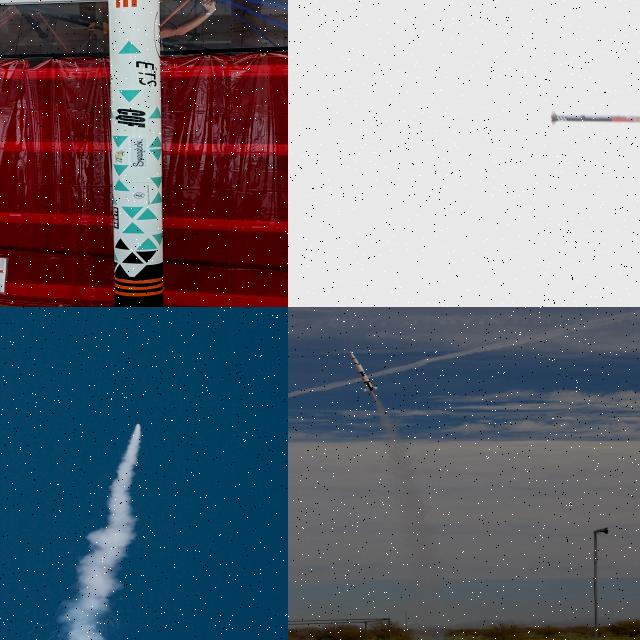Rocket: (108, 0, 165, 307), (550, 109, 640, 125), (349, 351, 378, 392), (136, 422, 141, 424)
